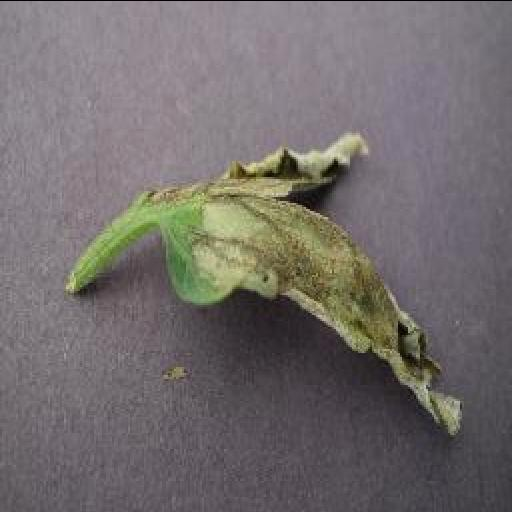disease_tomato: (134, 130, 468, 438)
